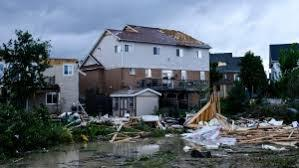major: (76, 22, 221, 120)
